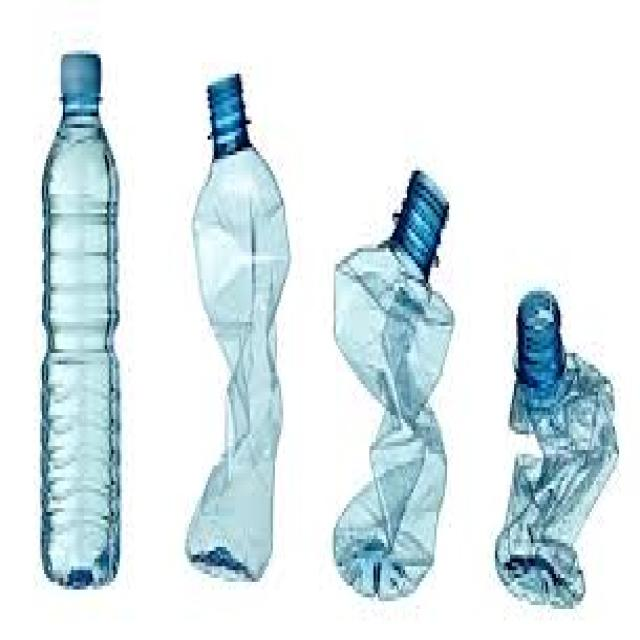plastic: (187, 74, 287, 578), (334, 171, 451, 593), (42, 54, 118, 586), (495, 291, 617, 605)
